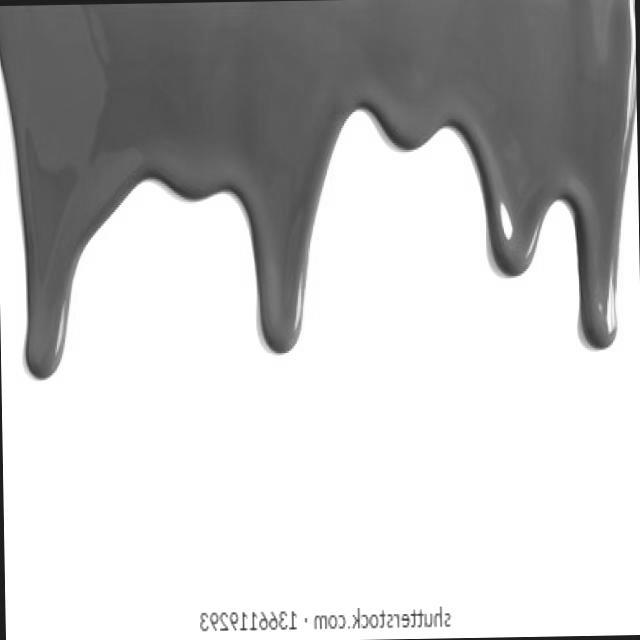paint drips: (4, 68, 347, 402), (239, 24, 452, 380), (478, 58, 629, 350)
